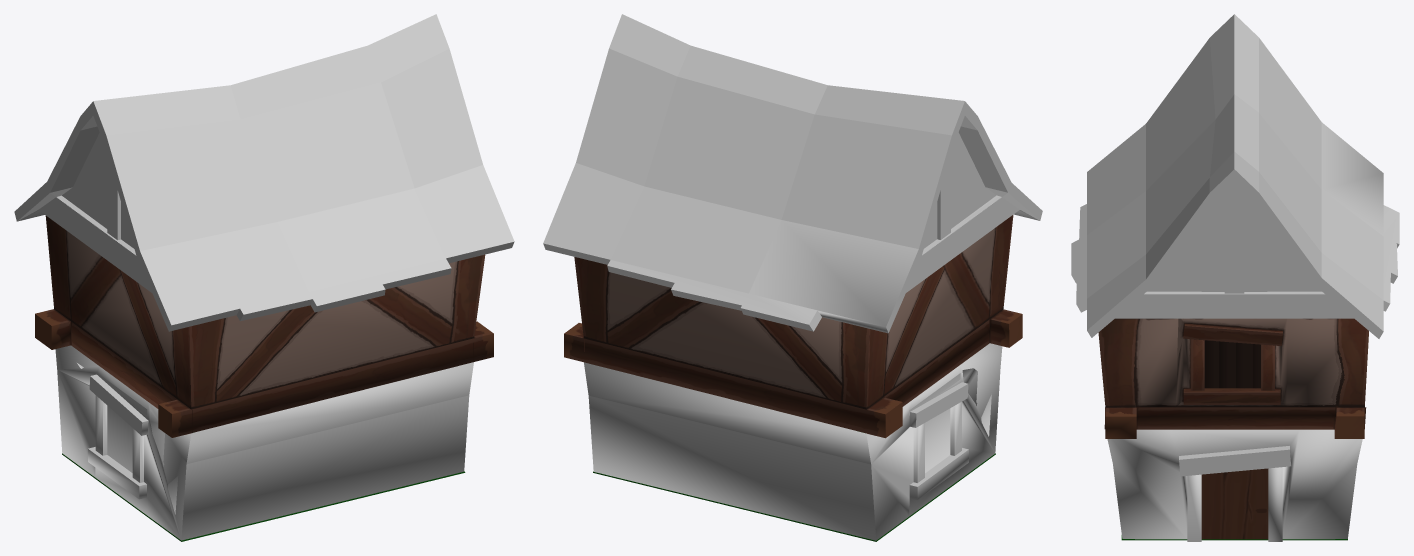
Rendered from house1.6 1.fbx.
3 renders of one model, left to right at view 1: azimuth 30°, elevation 25°; view 2: azimuth 150°, elevation 25°; view 3: azimuth 270°, elevation 25°, orthographic. The views are drawn at different scales.
Visible parts, largest first — view 1: Cube.000, Cube.013, Cube.004, Плоскость.002; view 2: Cube.000, Cube.013, Cube.004, Плоскость.002; view 3: Cube.000, Cube.013, Cube.004, Cube.005, Плоскость.002.
Boxes of the visible parts, x1=… form: Cube.000: x1=14, y1=14, x2=514, y2=331; Cube.013: x1=35, y1=215, x2=493, y2=437; Cube.004: x1=55, y1=345, x2=473, y2=540; Плоскость.002: x1=62, y1=453, x2=465, y2=541; Cube.000: x1=543, y1=14, x2=1042, y2=333; Cube.013: x1=564, y1=215, x2=1022, y2=438; Cube.004: x1=584, y1=343, x2=1002, y2=540; Плоскость.002: x1=593, y1=453, x2=995, y2=541; Cube.000: x1=1071, y1=14, x2=1399, y2=338; Cube.013: x1=1098, y1=318, x2=1368, y2=438; Cube.004: x1=1107, y1=429, x2=1362, y2=541; Cube.005: x1=1201, y1=468, x2=1268, y2=539; Плоскость.002: x1=1121, y1=535, x2=1347, y2=540.
Bounding box in the file's own units: 406 × 461 × 355.
